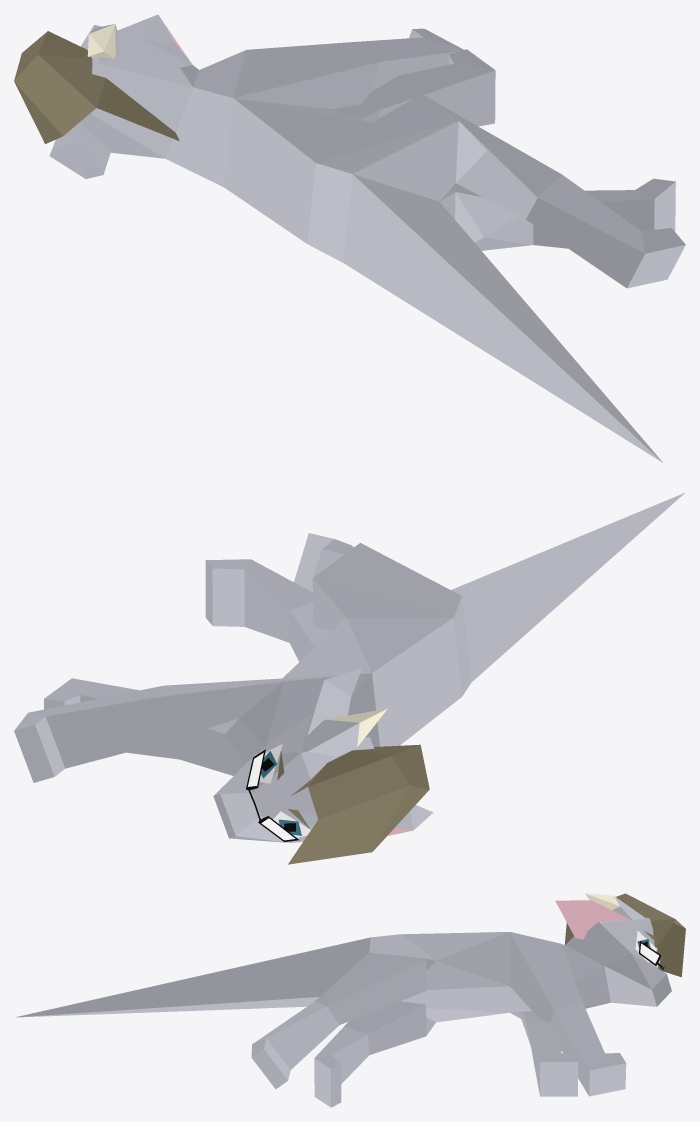
The model's file is wisp.gltf.
The picture shows the model from 3 angles, top to bottom: view 1: azimuth 30°, elevation 25°; view 2: azimuth 150°, elevation 25°; view 3: azimuth 270°, elevation 25°; orthographic projection. The views are drawn at different scales.
Visible parts, largest first — view 1: wisp; view 2: wisp; view 3: wisp.
Boxes of the visible parts, box(x1,y1,x2,y2) form: wisp: box(14, 14, 685, 462); wisp: box(14, 493, 684, 864); wisp: box(14, 893, 685, 1107).
Size of the model in its own units: 3.27 by 1.14 by 6.63.
